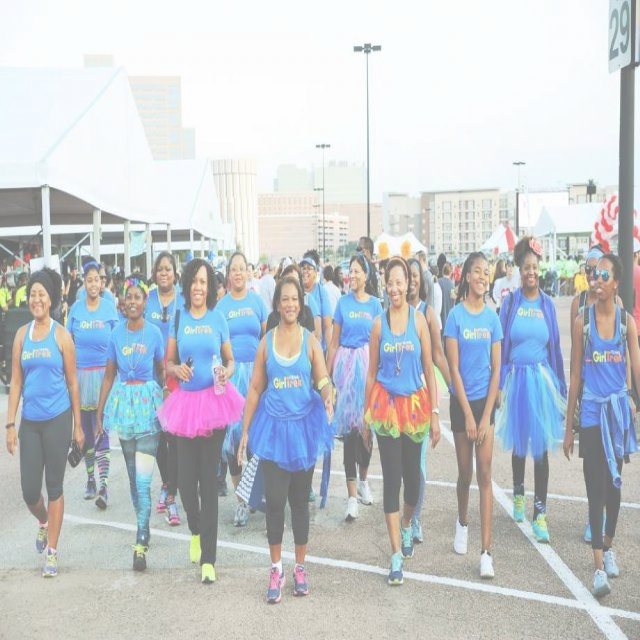pessoa: (234, 273, 337, 608), (154, 253, 248, 588), (356, 252, 444, 589), (562, 252, 640, 602), (4, 262, 86, 582), (91, 268, 170, 576), (494, 231, 570, 548), (443, 247, 504, 580), (568, 240, 625, 544), (324, 251, 386, 525), (213, 250, 269, 528), (65, 260, 122, 514), (405, 257, 453, 546), (140, 246, 187, 530), (265, 254, 318, 342), (298, 247, 334, 364), (438, 260, 458, 354), (80, 262, 117, 308), (355, 235, 382, 298), (492, 258, 519, 316), (413, 249, 436, 314), (628, 234, 640, 354), (427, 264, 443, 348), (102, 256, 125, 314), (322, 264, 342, 328), (256, 259, 278, 316), (63, 262, 84, 308), (488, 254, 507, 298), (14, 270, 32, 310), (212, 264, 230, 304), (572, 258, 590, 297), (450, 262, 465, 304), (375, 257, 390, 297), (228, 240, 250, 266), (332, 264, 348, 298), (244, 262, 261, 294), (273, 254, 295, 277), (430, 251, 448, 278)
